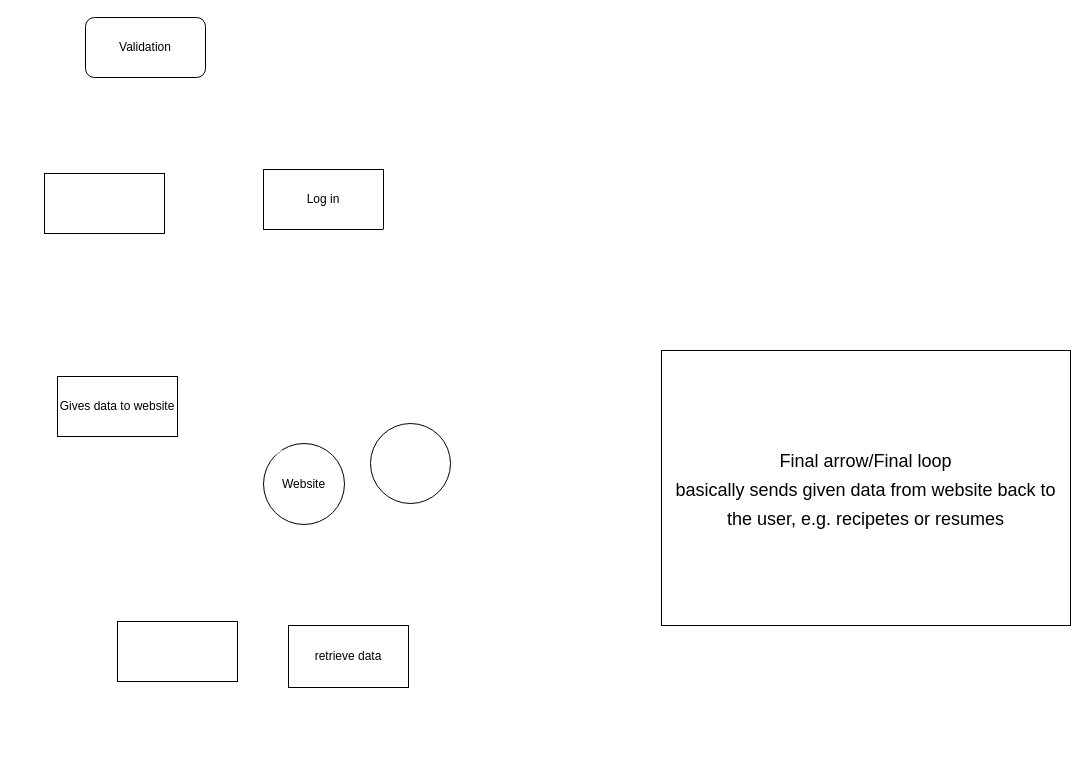
The diagram is 1088 pixels wide and 779 high, and some of its shapes have lost their labels. Each missing label, with the centre of its shape:
"Database" goes at pixel 410 463.
"process form data and any given data" goes at pixel 177 651.
"User/Client" goes at pixel 104 203.
